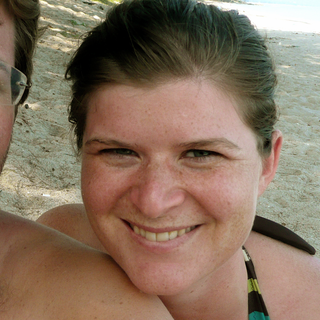eye: (175, 142, 229, 166), (93, 140, 142, 164)
